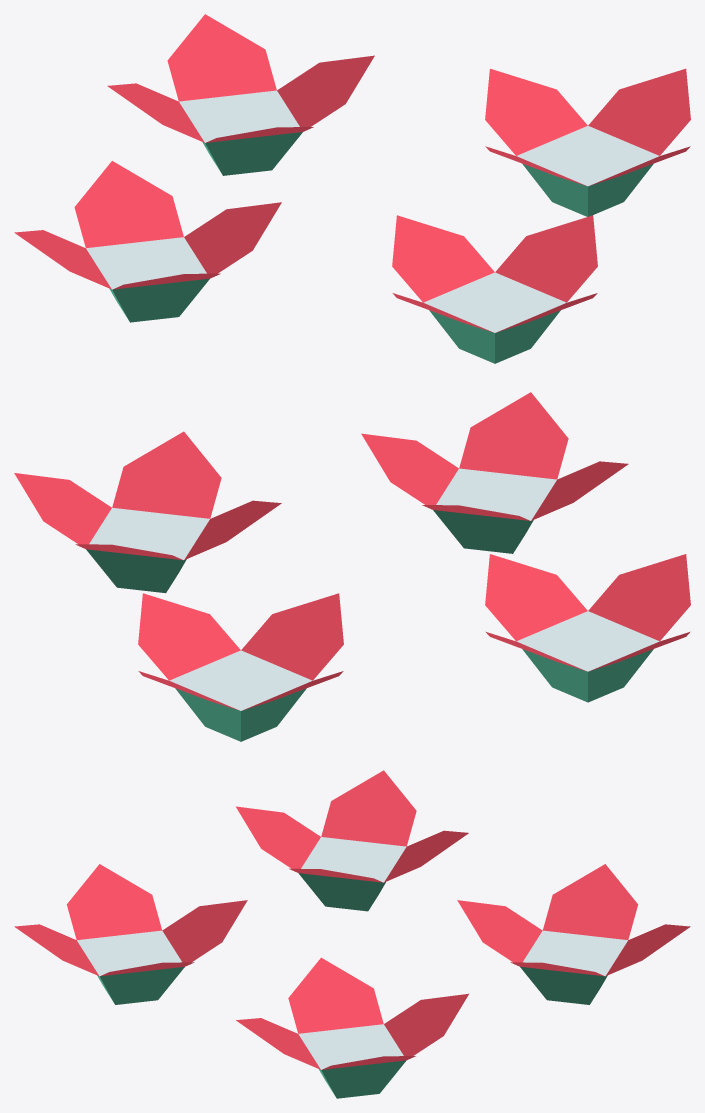
File: flowersLow.fbx
3 renders of one model, top to bottom at view 1: azimuth 30°, elevation 25°; view 2: azimuth 150°, elevation 25°; view 3: azimuth 270°, elevation 25°, orthographic. The views are drawn at different scales.
Parts seen in each view (by area): view 1: flowersLow; view 2: flowersLow; view 3: flowersLow.
Part boxes in pixels (<box>): flowersLow: <box>14,14,690,363</box>; flowersLow: <box>14,392,690,741</box>; flowersLow: <box>14,770,690,1098</box>.
Size of the model in its own units: 7.64 by 1 by 7.64.
